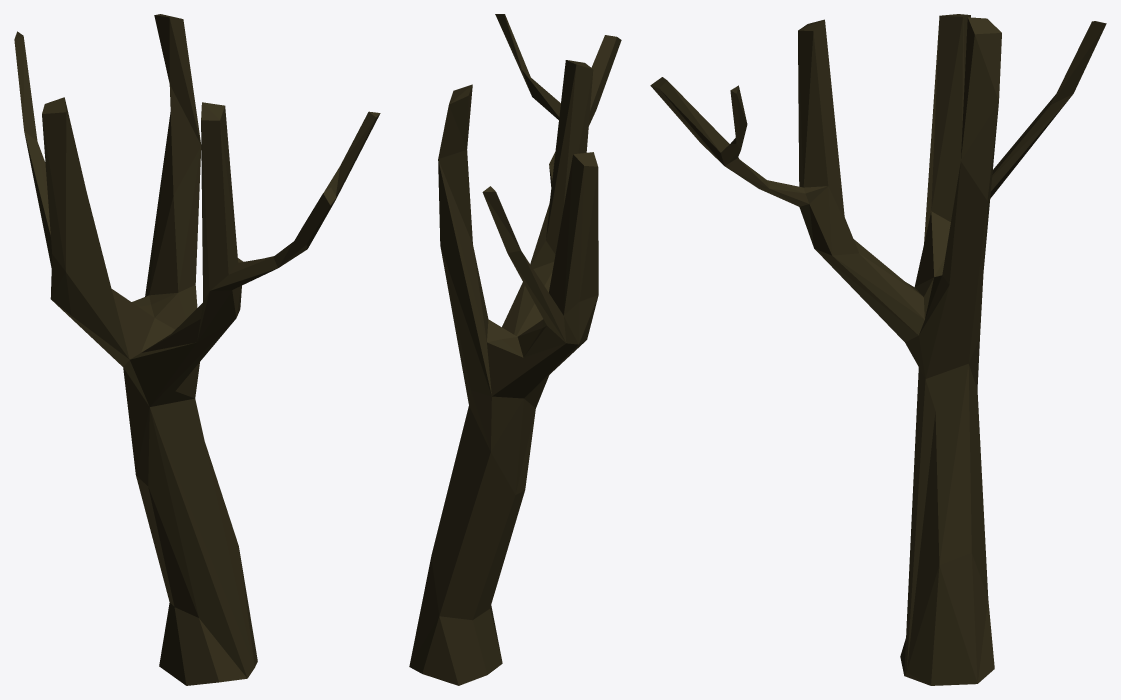
Rendered from tree-charred.fbx.
3 views of the same model, side by side, from view 1: azimuth 30°, elevation 25°; view 2: azimuth 150°, elevation 25°; view 3: azimuth 270°, elevation 25° (orthographic). The views are drawn at different scales.
Parts seen in each view (by area): view 1: trunk; view 2: trunk; view 3: trunk.
Part boxes in pixels (x1,y1,x2,y2): trunk: (14,14,380,685); trunk: (409,14,621,685); trunk: (650,14,1106,685).
Size of the model in its own units: 155 by 427 by 277.
